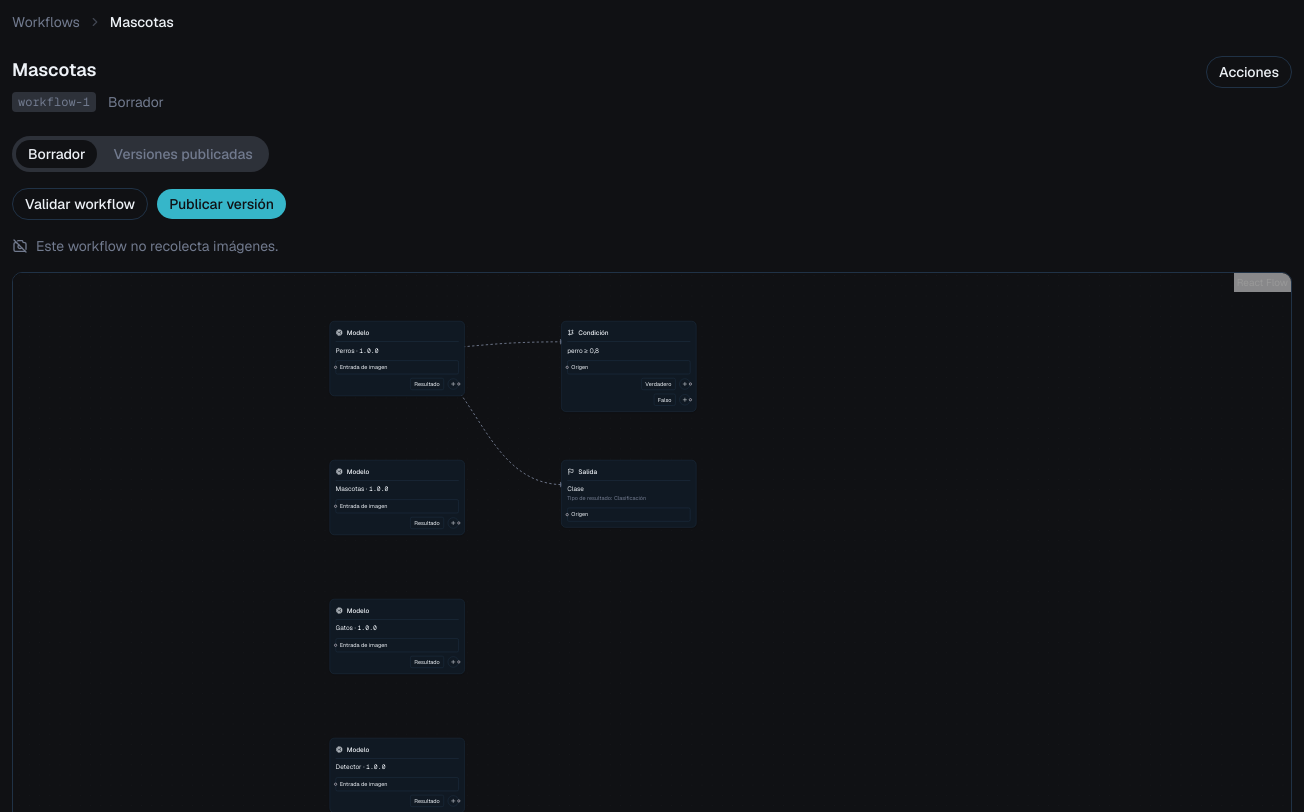
Test: US-131: reassigning the Origen of a condition or an output › restores the edge and offers Recargar borrador when someone else changed the draft
Expected: the element with test id "workflow-node-condition" is shown, [561, 321, 696, 412]
Click the 2nd button "Resultado" at (427, 523), box [410, 517, 444, 529]
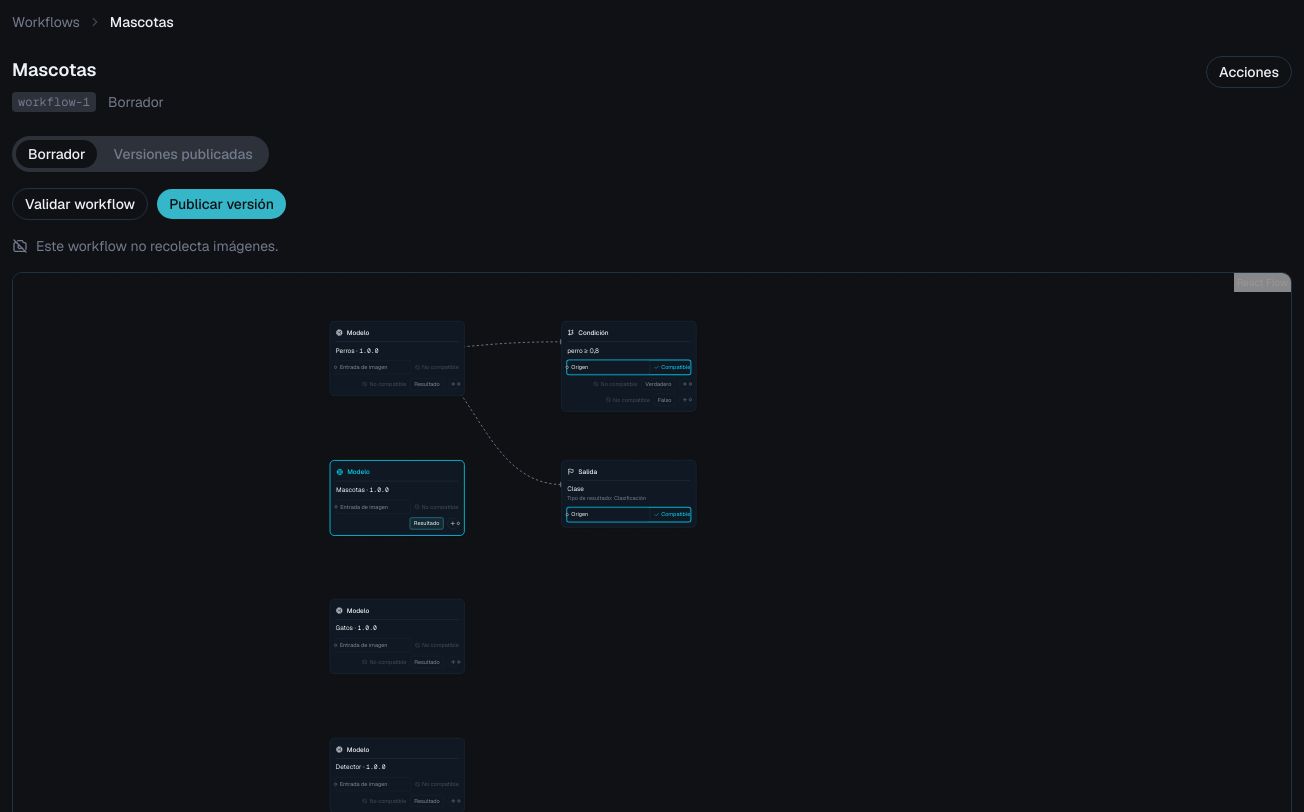
Click the button "Origen" below "perro ≥ 0,8" at (609, 367), box [567, 360, 650, 374]
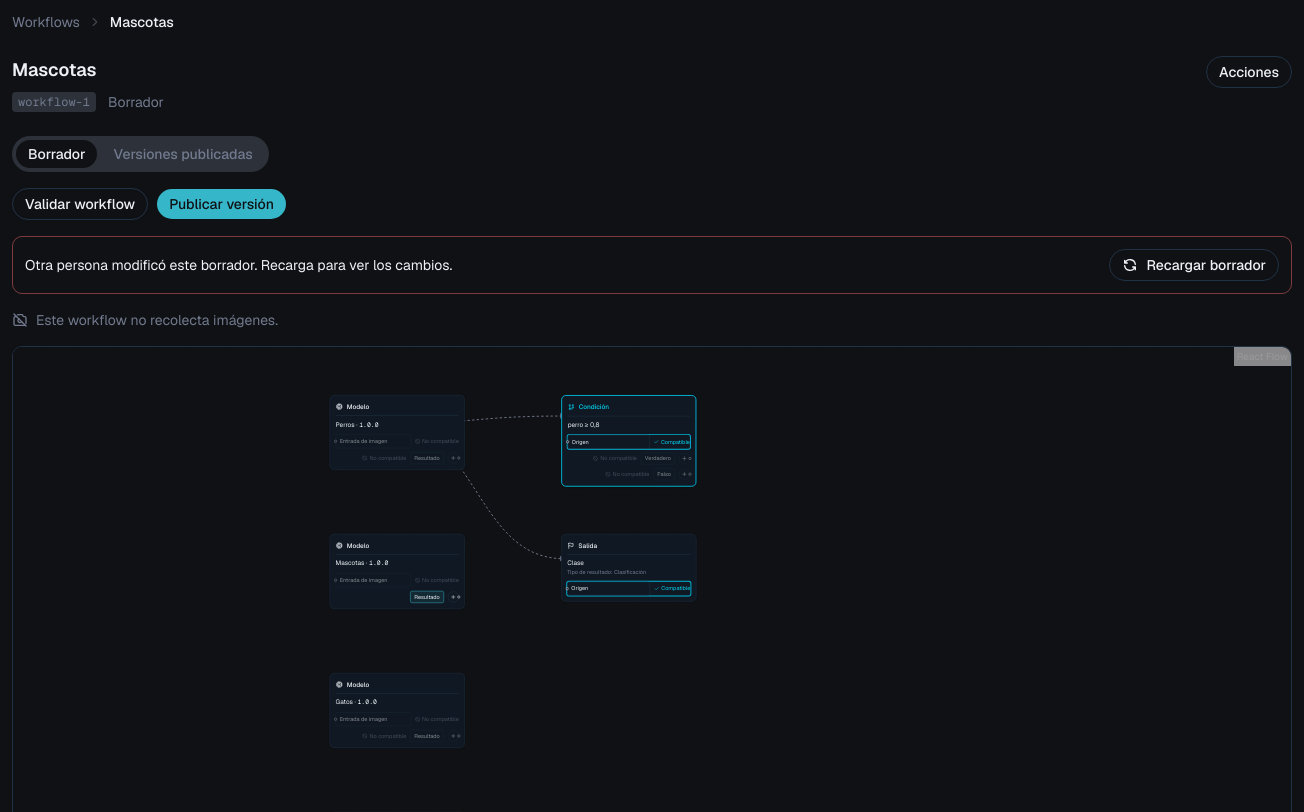
Expected: the message with test id "workflow-draft-conflict" is shown, [12, 236, 1292, 294]
